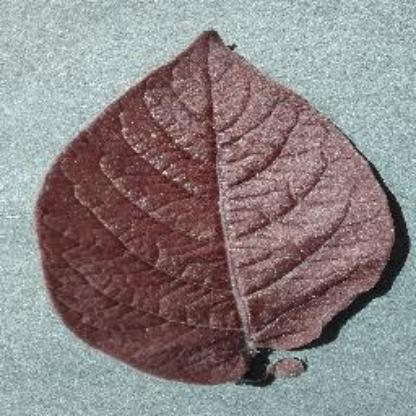Healthy-plant: (30, 26, 401, 394)
